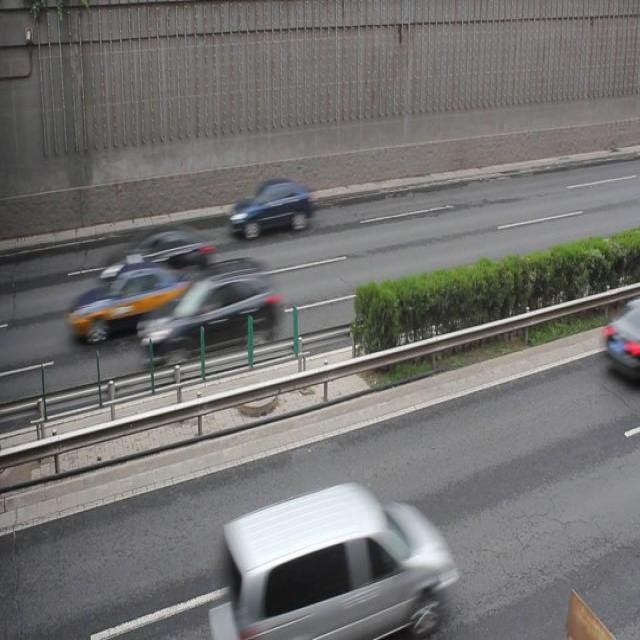car: (137, 254, 281, 356), (70, 262, 193, 341), (101, 228, 215, 289), (228, 177, 317, 237)
truck: (218, 476, 452, 640)
